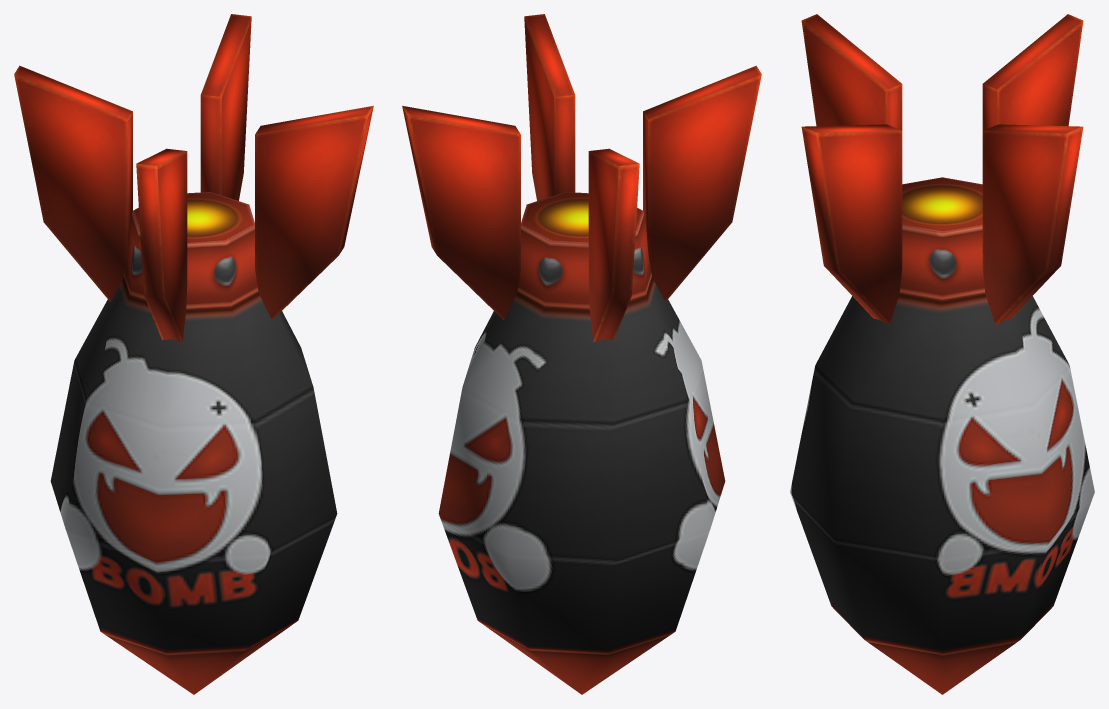
File: hedan.FBX
3 views of the same model, side by side, from view 1: azimuth 30°, elevation 25°; view 2: azimuth 150°, elevation 25°; view 3: azimuth 270°, elevation 25° (orthographic). The views are drawn at different scales.
Visible parts, largest first — view 1: hedan; view 2: hedan; view 3: hedan.
Boxes of the visible parts, x1,y1,x2,y2 form: hedan: (14,14,373,694); hedan: (402,14,761,694); hedan: (790,14,1094,694).
Bounding box in the file's own units: 50.07 × 113 × 50.07.
